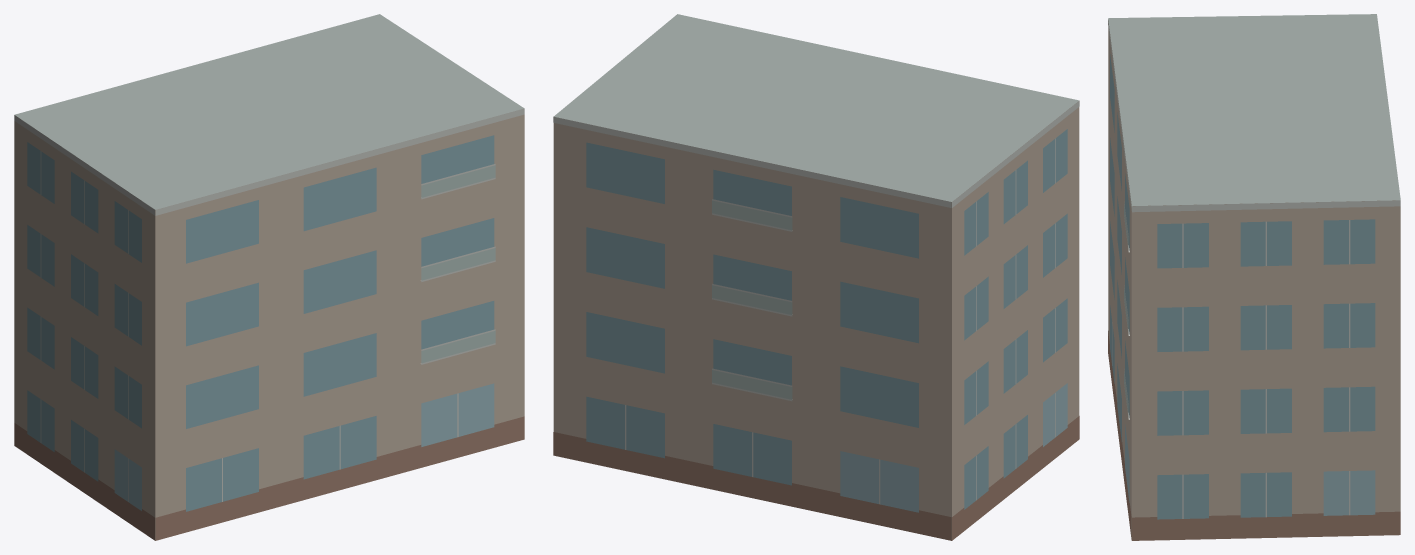
The model's file is survey-upis-32625391.glb.
3 renders of one model, left to right at view 1: azimuth 30°, elevation 25°; view 2: azimuth 150°, elevation 25°; view 3: azimuth 270°, elevation 25°, orthographic. The views are drawn at different scales.
Visible parts, largest first — view 1: survey-upis-32625391.tmp; view 2: survey-upis-32625391.tmp; view 3: survey-upis-32625391.tmp.
Boxes of the visible parts, x1,y1,x2,y2 form: survey-upis-32625391.tmp: [14, 14, 524, 540]; survey-upis-32625391.tmp: [553, 14, 1079, 540]; survey-upis-32625391.tmp: [1108, 14, 1400, 540].
Bounding box in the file's own units: 16.55 × 13.44 × 10.66.
